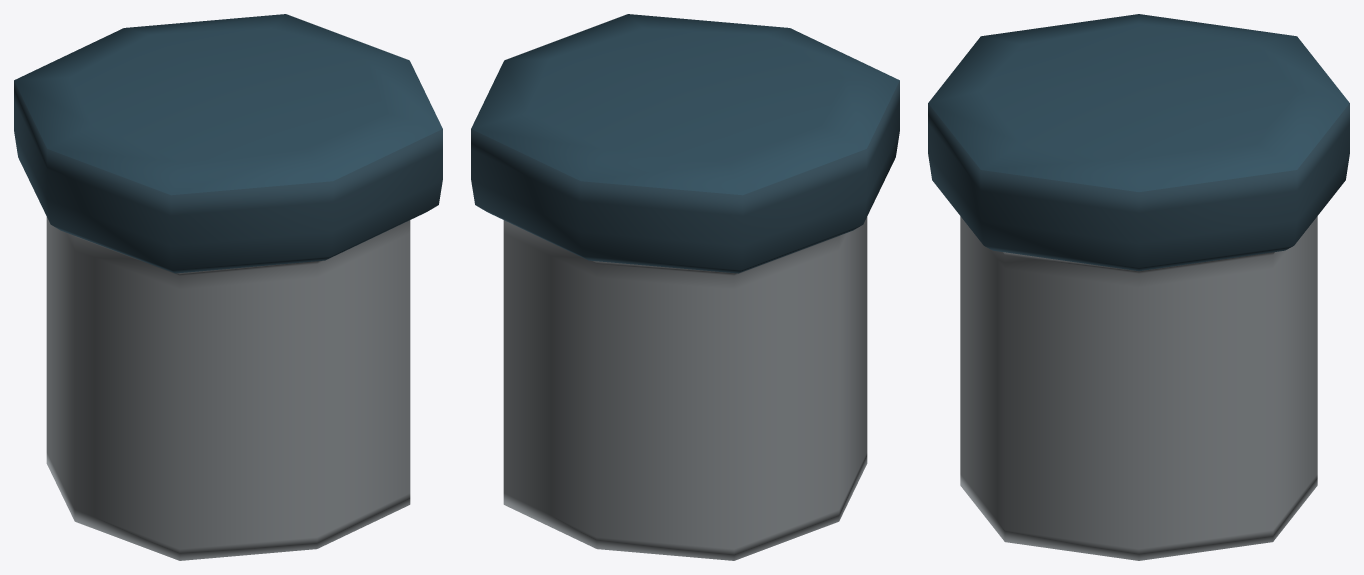
File: medicine_bottle.fbx
3 renders of one model, left to right at view 1: azimuth 30°, elevation 25°; view 2: azimuth 150°, elevation 25°; view 3: azimuth 270°, elevation 25°, orthographic.
Visible parts, largest first — view 1: pCube40; view 2: pCube40; view 3: pCube40.
Boxes of the visible parts, x1,y1,x2,y2 form: pCube40: (14,14,442,560); pCube40: (471,14,899,560); pCube40: (928,14,1349,560).
Bounding box in the file's own units: 4.49 × 4.68 × 4.49.
